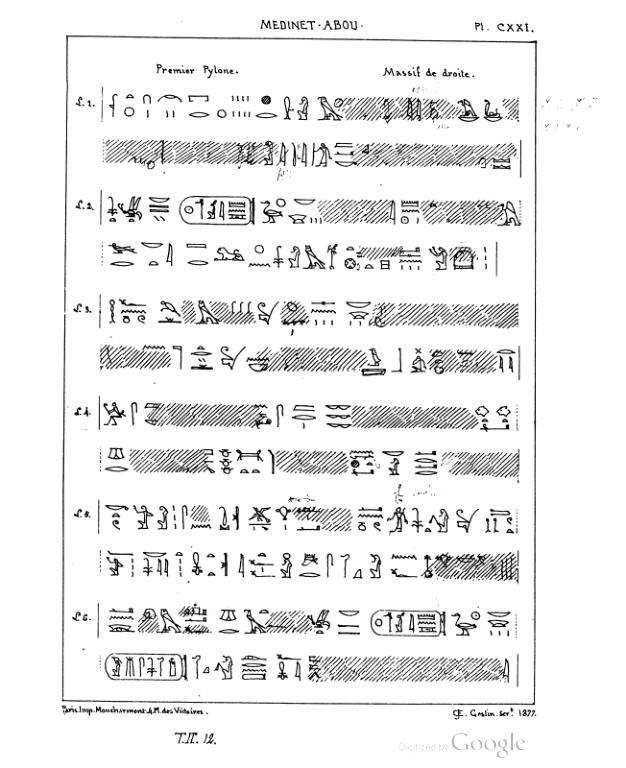circle: (101, 651, 192, 686), (173, 192, 257, 227), (370, 605, 450, 640)
